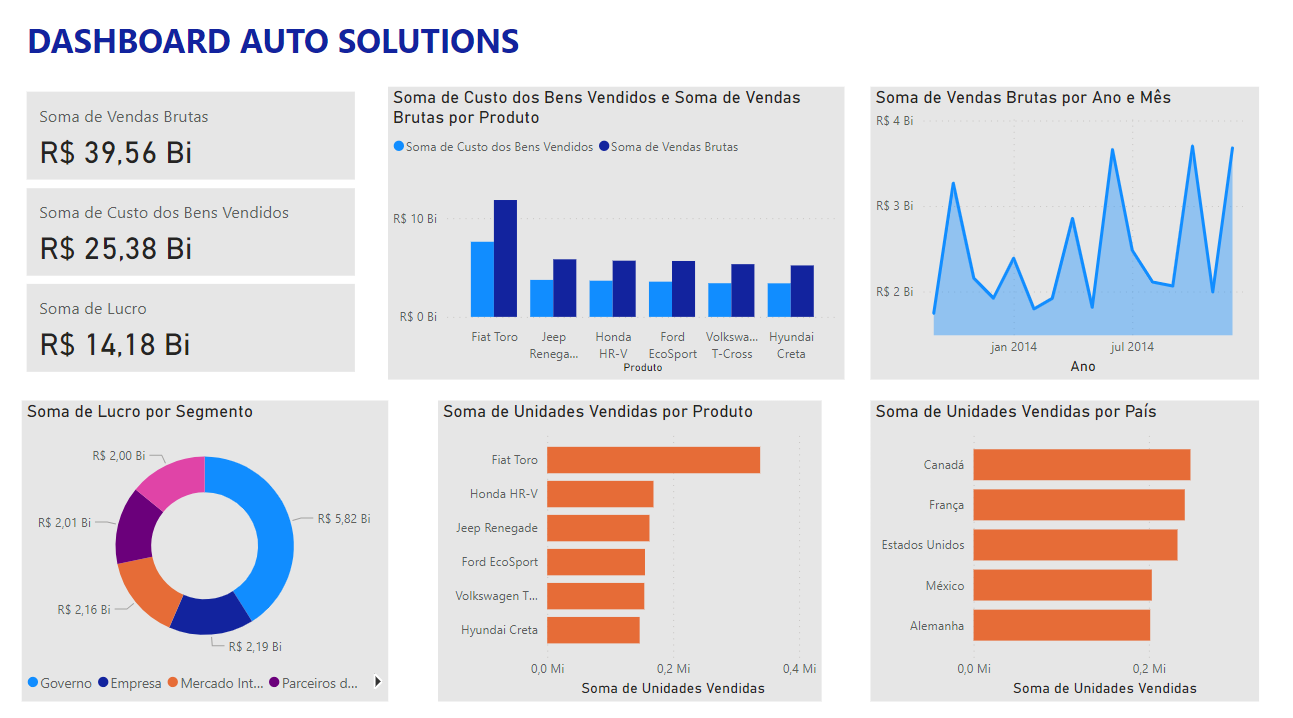

The dashboard page shown, as its layout file describes it:
{"tool":"powerbi","page":{"name":"Página 1","canvas":[1280,720],"ordinal":0},"visuals":[{"type":"areaChart","fields":{"Category":["Tabela1.Data.Variation.Hierarquia de datas.Ano","Tabela1.Data.Variation.Hierarquia de datas.Mês"],"Y":["Sum(Tabela1.Vendas Brutas)"]},"box":[858.1,91.7,380.2,286],"z":1},{"type":"clusteredBarChart","fields":{"Category":["Tabela1.País"],"Y":["Sum(Tabela1.Unidades Vendidas)"]},"box":[858.1,398.5,380.2,294.6],"z":2},{"type":"clusteredColumnChart","fields":{"Y":["Sum(Tabela1.Custo dos Bens Vendidos)","Sum(Tabela1.Vendas Brutas)"],"Category":["Tabela1.Produto"]},"box":[386.3,91.7,446.2,286],"z":3},{"type":"donutChart","fields":{"Y":["Sum(Tabela1.Lucro)"],"Category":["Tabela1.Segmento"]},"box":[28.1,398.5,358.2,294.6],"z":4},{"type":"clusteredBarChart","fields":{"Y":["Sum(Tabela1.Unidades Vendidas)"],"Category":["Tabela1.Produto"]},"box":[435.2,398.5,375.3,294.6],"z":5},{"type":"cardVisual","fields":{"Data":["Sum(Tabela1.Vendas Brutas)","Sum(Tabela1.Custo dos Bens Vendidos)","Sum(Tabela1.Lucro)"]},"box":[28.1,91.7,331.3,286],"z":6},{"type":"textbox","box":[28.1,12.2,503.6,66],"z":7}]}

Visuals, with their boxes in screenshot pixels (x1, y1, x2, y2), scaled from the page's 1280x720 canvas onto the 1293x718 screenshot:
areaChart - Tabela1.Data.Variation.Hierarquia de datas.Ano x Tabela1.Data.Variation.Hierarquia de datas.Mês: 867 91 1251 377
clusteredBarChart - Tabela1.País x Sum(Tabela1.Unidades Vendidas): 867 397 1251 691
clusteredColumnChart - Sum(Tabela1.Custo dos Bens Vendidos) x Sum(Tabela1.Vendas Brutas): 390 91 841 377
donutChart - Sum(Tabela1.Lucro) x Tabela1.Segmento: 28 397 390 691
clusteredBarChart - Sum(Tabela1.Unidades Vendidas) x Tabela1.Produto: 440 397 819 691
cardVisual - Sum(Tabela1.Vendas Brutas) x Sum(Tabela1.Custo dos Bens Vendidos): 28 91 363 377
textbox: 28 12 537 78
